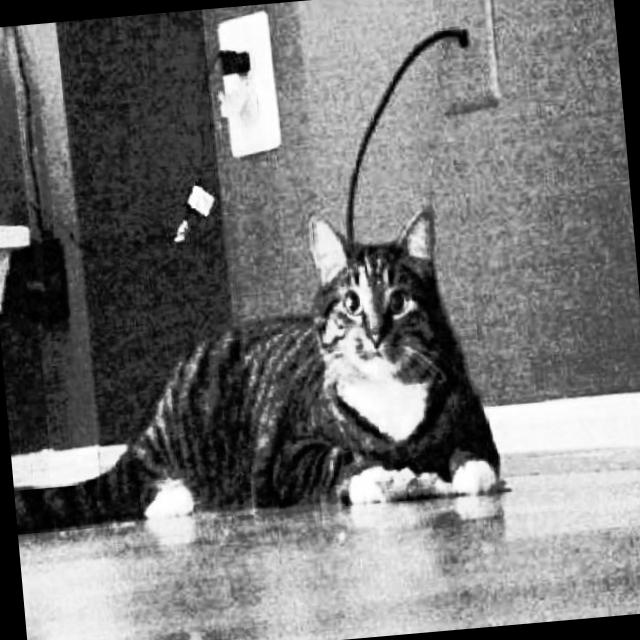Cat: (0, 188, 514, 542)
